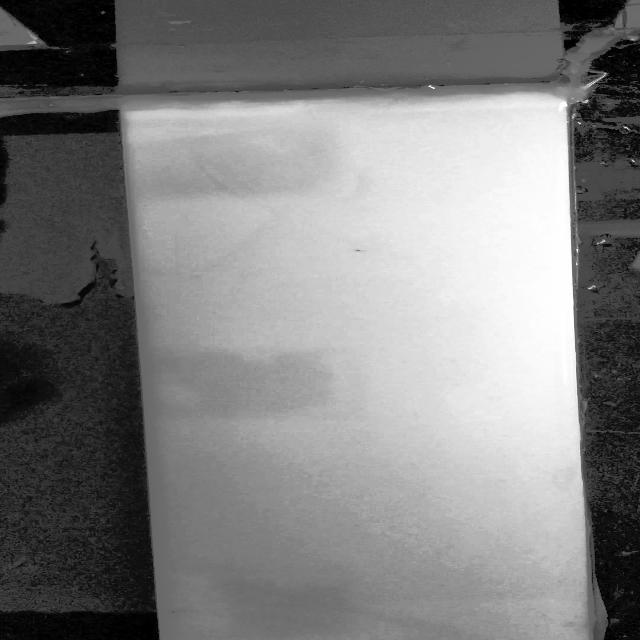shrimp: (150, 606, 198, 617), (347, 246, 380, 258)
